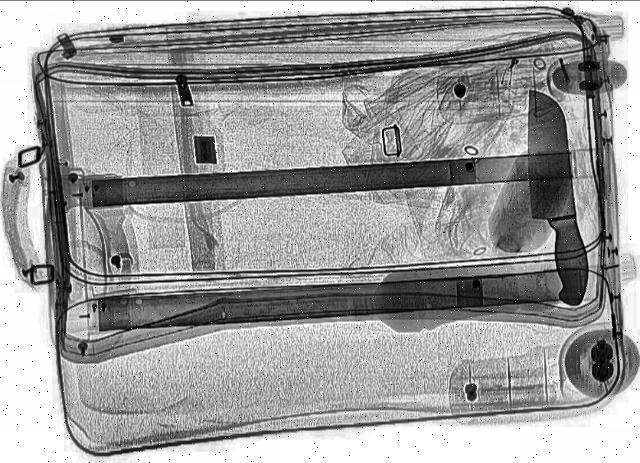Knife: (520, 88, 596, 308)
